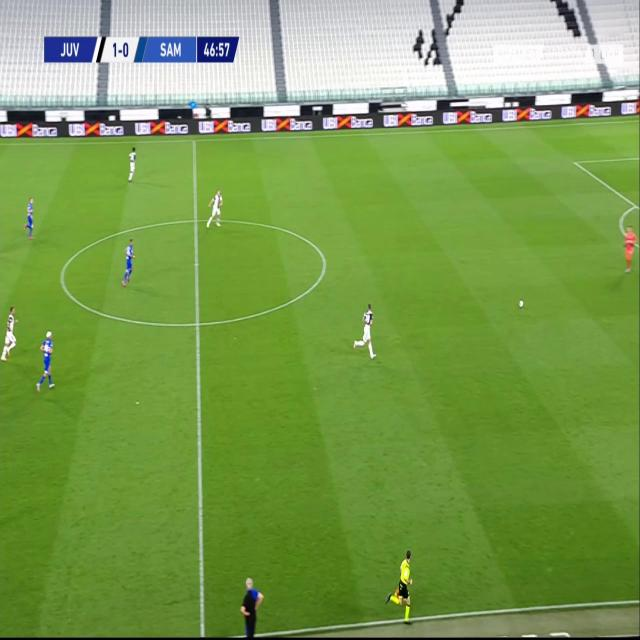ball: (518, 296, 524, 309)
player: (385, 546, 415, 622), (238, 574, 266, 638), (353, 300, 376, 360), (35, 328, 55, 394), (0, 302, 18, 362), (205, 187, 225, 231), (622, 222, 636, 276), (122, 237, 136, 287), (23, 195, 35, 241), (127, 145, 137, 182)
